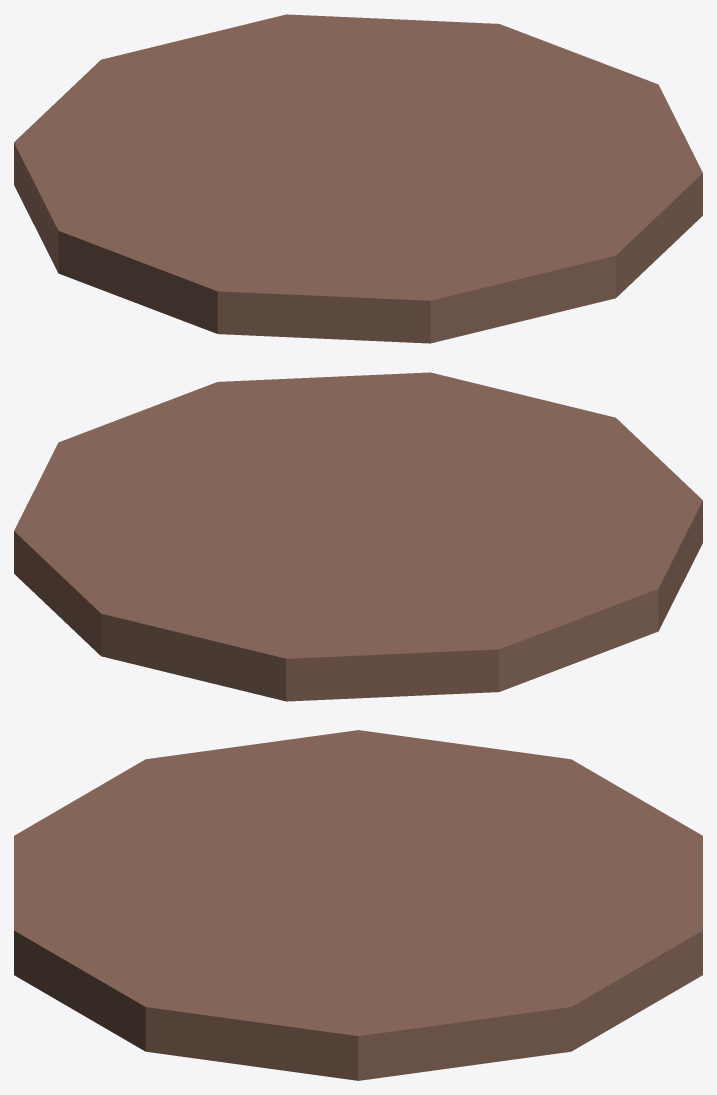
File: prasikr19_Maso.fbx
3 views of the same model, one above another, from view 1: azimuth 30°, elevation 25°; view 2: azimuth 150°, elevation 25°; view 3: azimuth 270°, elevation 25° (orthographic). The views are drawn at different scales.
Visible parts, largest first — view 1: pCylinder1; view 2: pCylinder1; view 3: pCylinder1.
Part boxes in pixels (bbox=[...]): pCylinder1: bbox=[14, 14, 702, 343]; pCylinder1: bbox=[14, 372, 702, 701]; pCylinder1: bbox=[14, 730, 702, 1080].
Bounding box in the file's own units: 2 × 0.1361 × 1.9.
